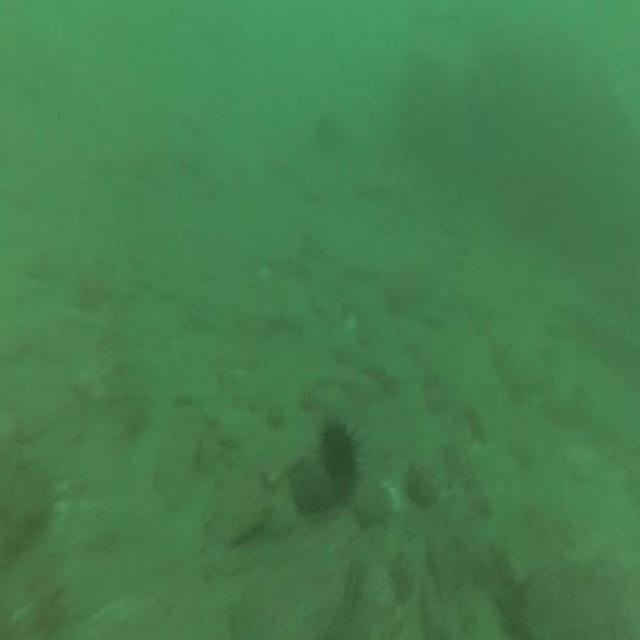echinus: (316, 412, 362, 502)
